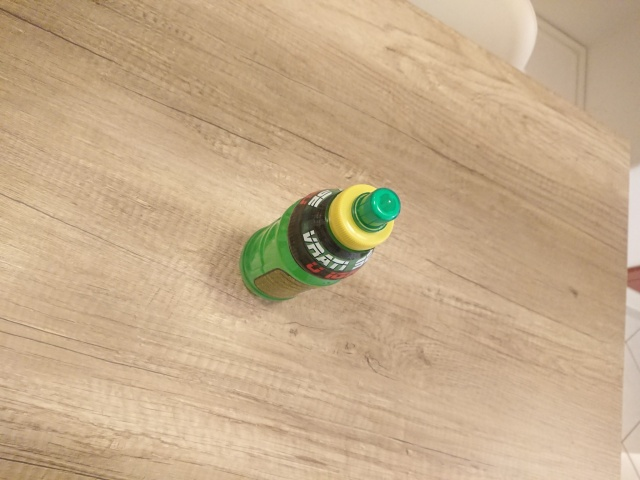Vindi Iso Sport Lemon-Grapefruit 500mL: (236, 181, 404, 304)
